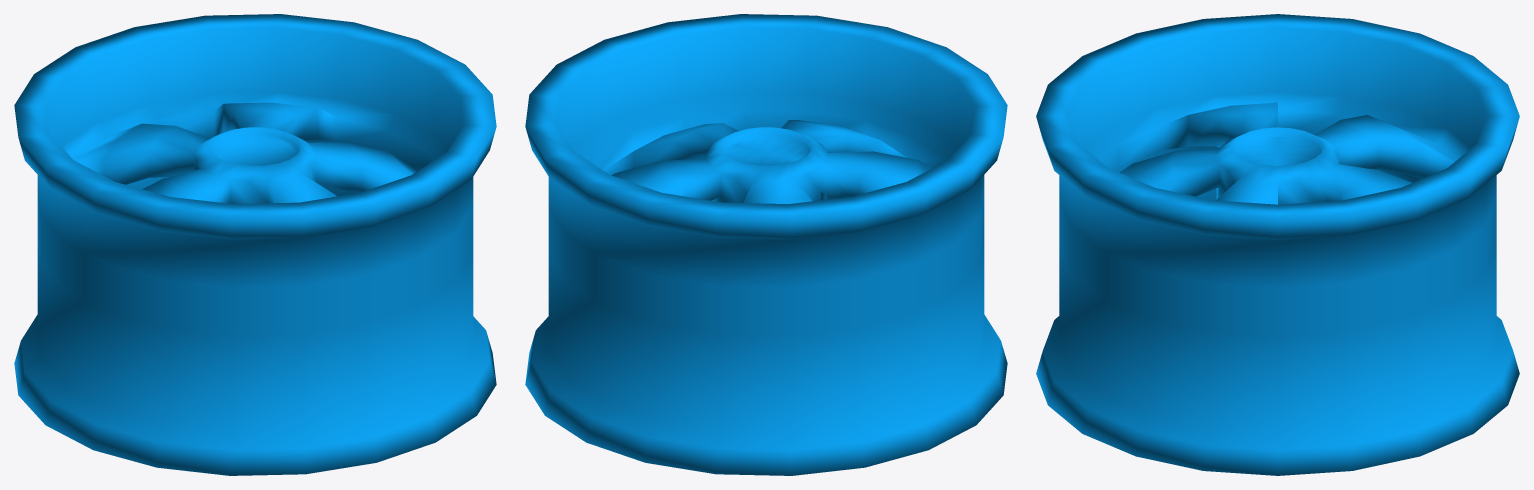
Rendered from Tyre Rims.fbx.
The picture shows the model from 3 angles, left to right: view 1: azimuth 30°, elevation 25°; view 2: azimuth 150°, elevation 25°; view 3: azimuth 270°, elevation 25°; orthographic projection.
Parts seen in each view (by area): view 1: Cylinder2579; view 2: Cylinder2579; view 3: Cylinder2579.
Boxes of the visible parts, <box> form: Cylinder2579: <box>14,14,496,475</box>; Cylinder2579: <box>525,14,1007,475</box>; Cylinder2579: <box>1036,14,1519,475</box>.
Size of the model in its own units: 0.5977 by 0.3511 by 0.5977.
